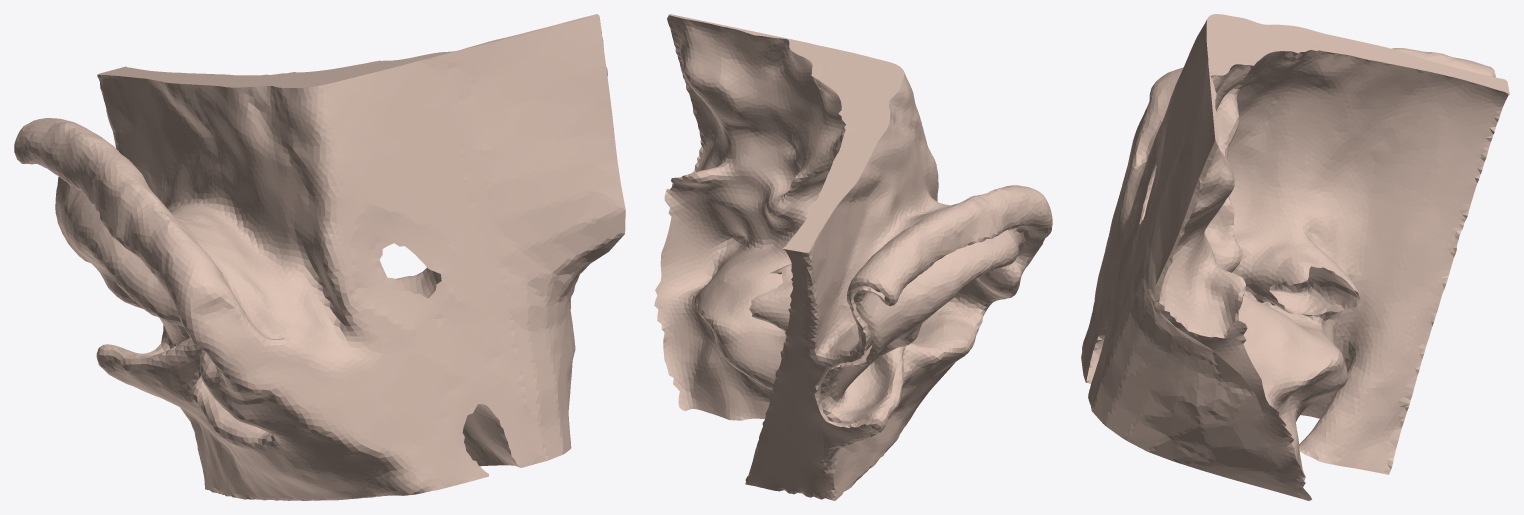
The picture shows the model from 3 angles, left to right: view 1: azimuth 30°, elevation 25°; view 2: azimuth 150°, elevation 25°; view 3: azimuth 270°, elevation 25°; orthographic projection. The views are drawn at different scales.
Visible parts, largest first — view 1: Shape_IndexedFaceSet.383; view 2: Shape_IndexedFaceSet.383; view 3: Shape_IndexedFaceSet.383.
Boxes of the visible parts, x1,y1,x2,y2 form: Shape_IndexedFaceSet.383: [14, 14, 625, 500]; Shape_IndexedFaceSet.383: [654, 14, 1052, 500]; Shape_IndexedFaceSet.383: [1081, 14, 1509, 500].
Size of the model in its own units: 6664 by 6636 by 6140.
